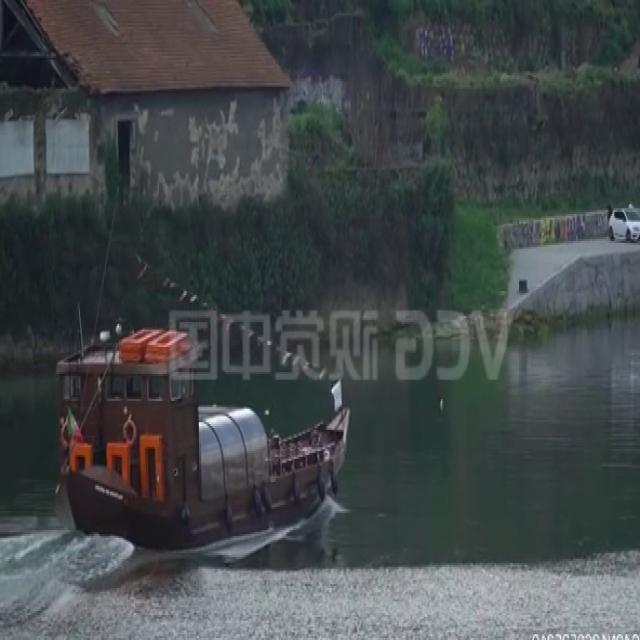fishing boat: (58, 330, 353, 549)
